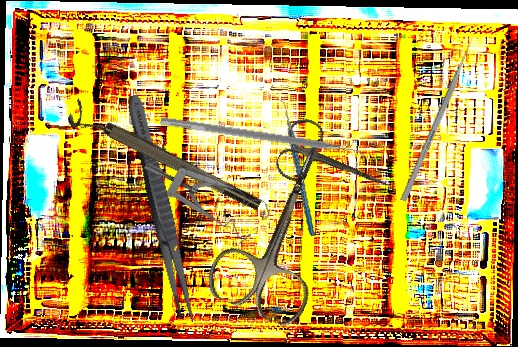Chopper: (257, 95, 332, 236)
Dressing Forceps: (121, 92, 201, 326)
Fixation Ring: (64, 97, 265, 223)
Iris Scissors: (200, 121, 367, 331), (272, 113, 402, 217)
Pusher: (400, 34, 477, 203)
Spatula Surgical: (158, 116, 370, 163)
Speculum: (143, 122, 276, 261)
